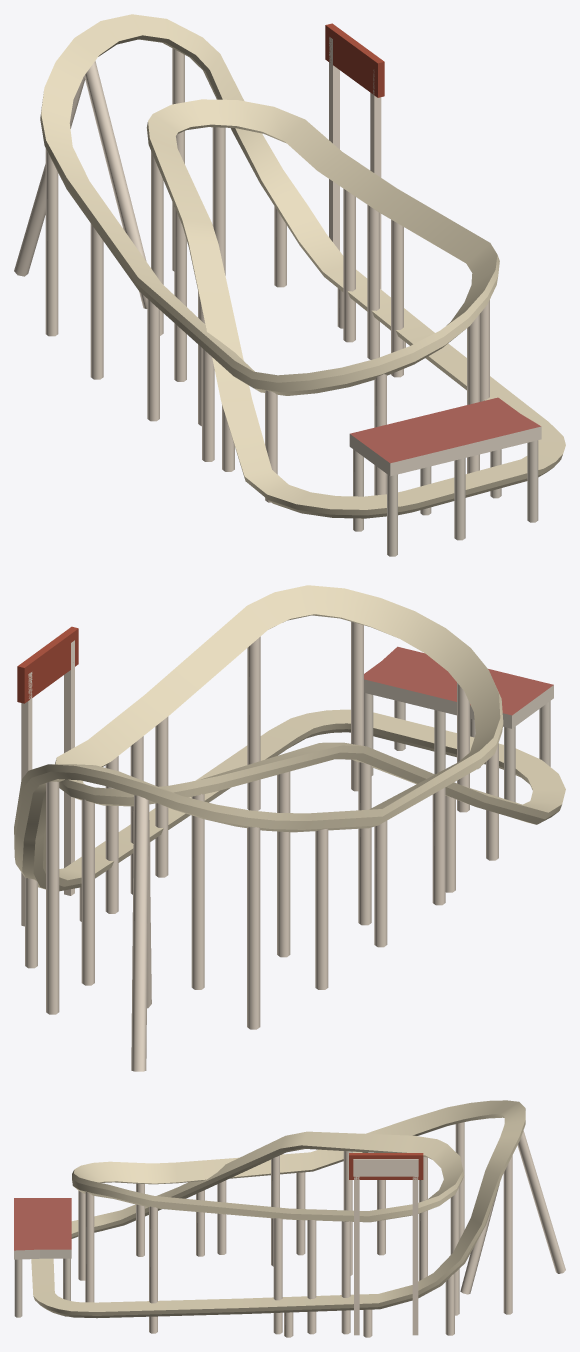
The model's file is nyc-steeplechase.glb.
The picture shows the model from 3 angles, top to bottom: view 1: azimuth 30°, elevation 25°; view 2: azimuth 150°, elevation 25°; view 3: azimuth 270°, elevation 25°; orthographic projection. The views are drawn at different scales.
Parts seen in each view (by area): view 1: Steeplechase; view 2: Steeplechase; view 3: Steeplechase.
Boxes of the visible parts, bbox=[...] form: Steeplechase: bbox=[14, 14, 565, 556]; Steeplechase: bbox=[14, 585, 565, 1071]; Steeplechase: bbox=[14, 1100, 565, 1337].
Bounding box in the file's own units: 21.93 × 18.71 × 48.96.
